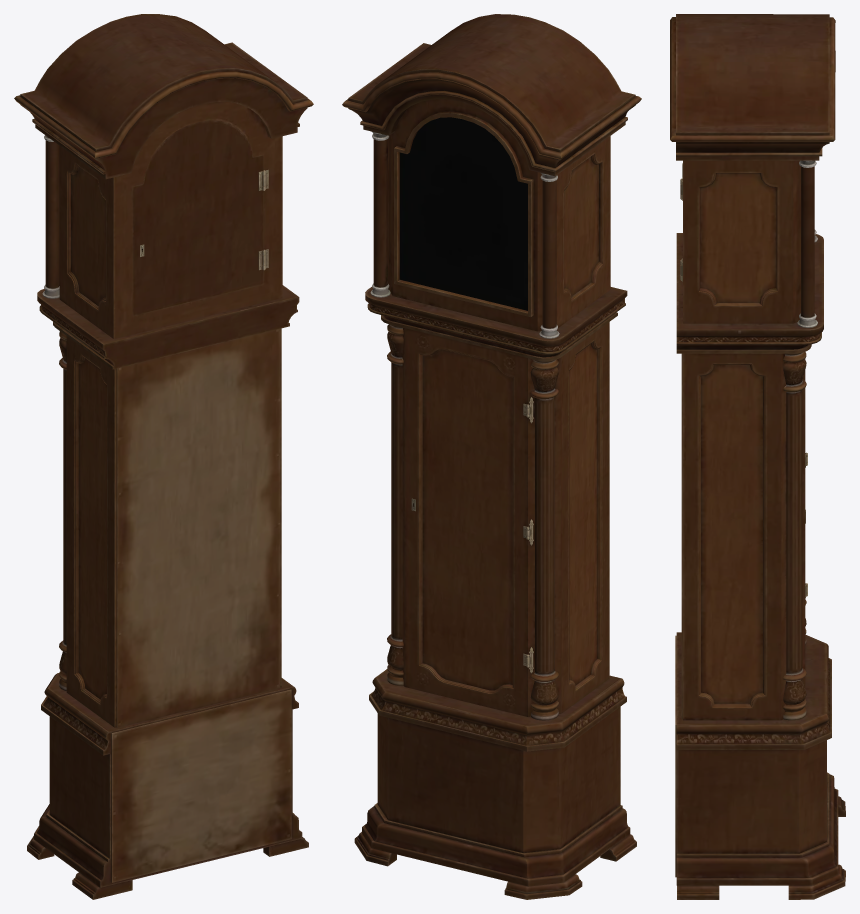
File: vintage_grandfather_clock_01.glb
3 renders of one model, left to right at view 1: azimuth 30°, elevation 25°; view 2: azimuth 150°, elevation 25°; view 3: azimuth 270°, elevation 25°, orthographic. The views are drawn at different scales.
Visible parts, largest first — view 1: vintage_grandfather_clock_01_body; view 2: vintage_grandfather_clock_01_body; view 3: vintage_grandfather_clock_01_body.
Part boxes in pixels (left/top/right/bottom): vintage_grandfather_clock_01_body: left=14, top=14, right=313, bottom=899; vintage_grandfather_clock_01_body: left=342, top=14, right=641, bottom=899; vintage_grandfather_clock_01_body: left=670, top=14, right=845, bottom=899.
Bounding box in the file's own units: 0.6255 × 2.19 × 0.4265.
Materials: 2 (2 with a texture image).
